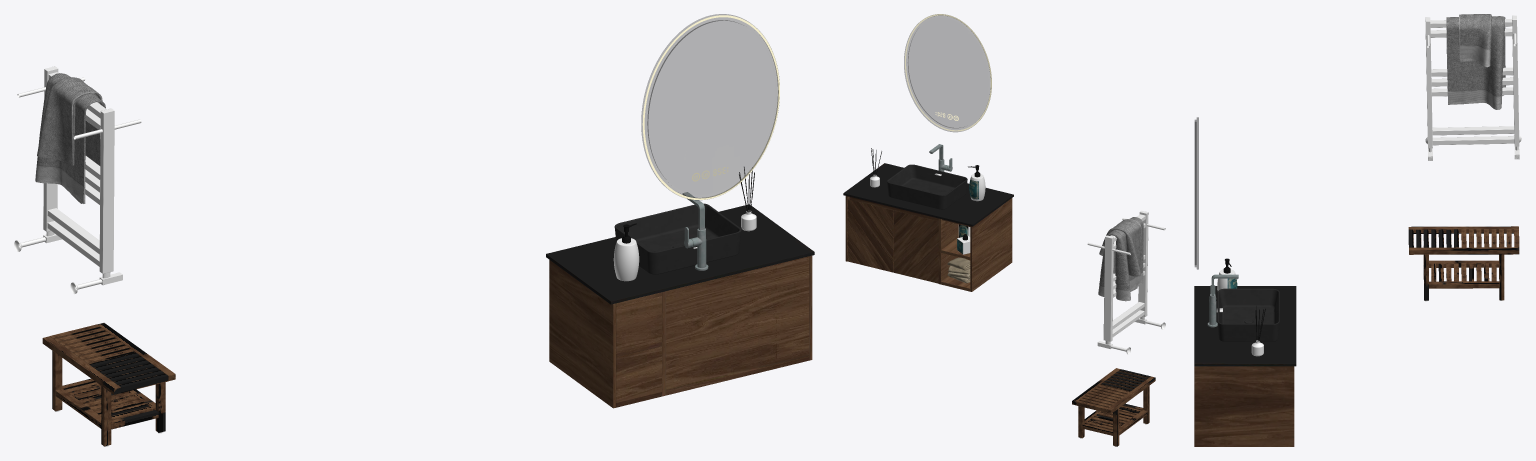
The model's file is decors4_compressed.glb.
3 views of the same model, side by side, from view 1: azimuth 30°, elevation 25°; view 2: azimuth 150°, elevation 25°; view 3: azimuth 270°, elevation 25° (orthographic). The views are drawn at different scales.
Visible parts, largest first — view 1: stand, Mirror, Leg, Brace, towel.002, BASIN, FAUCET; view 2: stand, Mirror, Leg, Brace, BASIN, towel.002, TOWEL; view 3: stand, towel.002, Leg, Brace, BASIN, Mirror, FAUCET.
Boxes of the visible parts, <box> form: stand: <box>546,204,814,408</box>; Mirror: <box>641,14,779,199</box>; Leg: <box>42,323,175,446</box>; Brace: <box>14,66,756,446</box>; towel.002: <box>35,73,105,203</box>; BASIN: <box>614,203,741,274</box>; FAUCET: <box>682,192,708,270</box>; stand: <box>843,163,1013,291</box>; Mirror: <box>904,14,991,131</box>; Leg: <box>1072,368,1155,446</box>; Brace: <box>870,174,1165,446</box>; BASIN: <box>887,164,967,209</box>; towel.002: <box>1098,217,1143,301</box>; TOWEL: <box>947,257,970,283</box>; stand: <box>1194,286,1296,446</box>; towel.002: <box>1446,14,1505,109</box>; Leg: <box>1408,226,1519,300</box>; Brace: <box>1217,15,1521,356</box>; BASIN: <box>1217,288,1279,341</box>; Mirror: <box>1194,117,1198,269</box>; FAUCET: <box>1207,274,1238,327</box>.
Size of the model in its own units: 13.63 by 9.36 by 8.34.
Materials: 13 (10 with a texture image).
